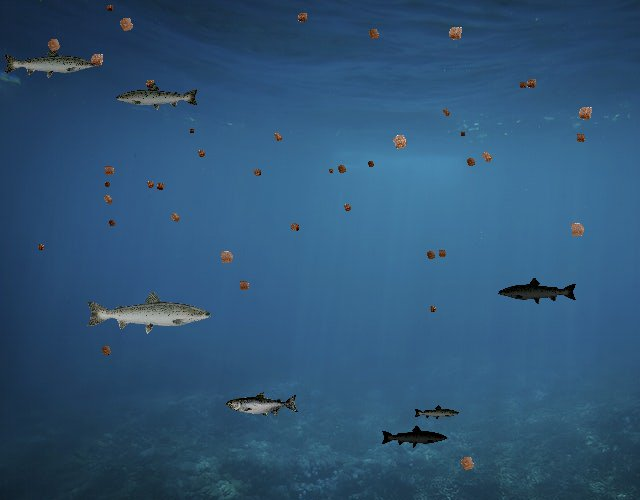Fish: (84, 289, 213, 335), (2, 47, 96, 80), (114, 81, 200, 112), (498, 277, 579, 306), (226, 392, 299, 418), (381, 424, 449, 449), (414, 404, 461, 421)
Pellet: (441, 19, 470, 48), (571, 99, 599, 127), (292, 7, 313, 28), (461, 153, 480, 172), (339, 200, 356, 217), (426, 302, 440, 316), (34, 240, 48, 254)
